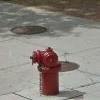Hydrant: (24, 38, 68, 94)
